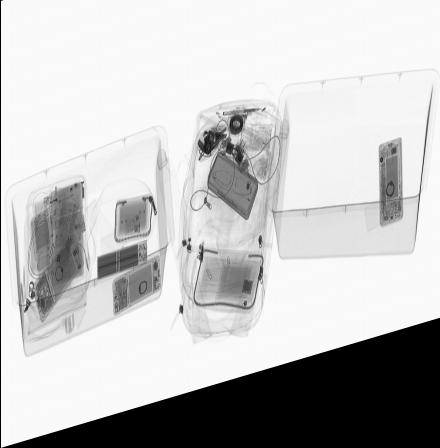Lighter: (42, 190, 67, 209)
